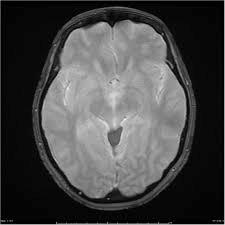Normal_Brain: (8, 1, 215, 222)
